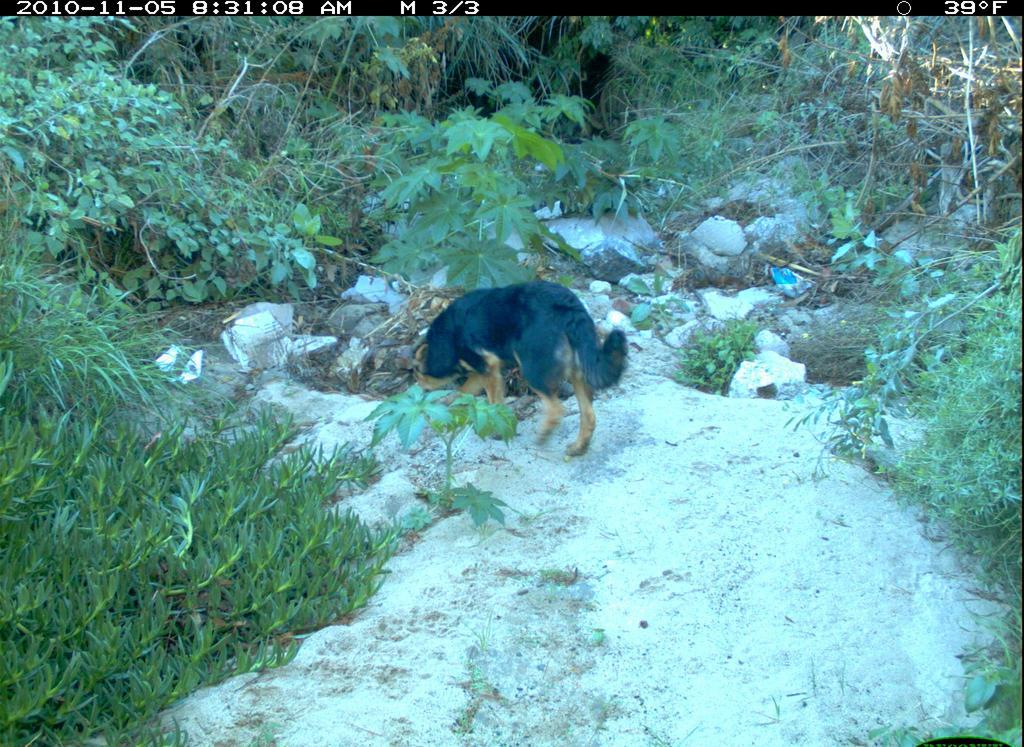dog: (405, 271, 641, 466)
